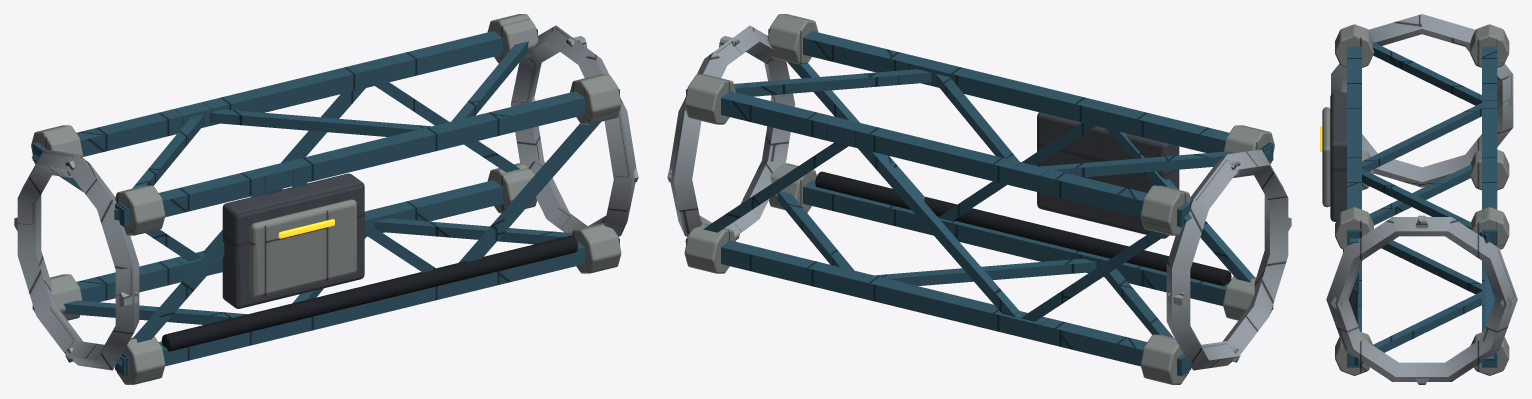
Rendered from truss_short_lod1.glb.
The picture shows the model from 3 angles, left to right: view 1: azimuth 30°, elevation 25°; view 2: azimuth 150°, elevation 25°; view 3: azimuth 270°, elevation 25°; orthographic projection. The views are drawn at different scales.
Parts seen in each view (by area): view 1: LOD1_Armor, LOD1_Hull, LOD1_BrushedMetal, LOD1_MechanicalDark, LOD1_Mechanical; view 2: LOD1_Armor, LOD1_BrushedMetal, LOD1_Hull, LOD1_Mechanical, LOD1_MechanicalDark; view 3: LOD1_BrushedMetal, LOD1_Armor, LOD1_Hull, LOD1_Mechanical, LOD1_MechanicalDark.
Part boxes in pixels (x1=…): LOD1_Armor: x1=31, y1=28, x2=619, y2=376; LOD1_Hull: x1=31, y1=14, x2=621, y2=384; LOD1_BrushedMetal: x1=14, y1=25, x2=638, y2=370; LOD1_MechanicalDark: x1=161, y1=235, x2=577, y2=351; LOD1_Mechanical: x1=222, y1=173, x2=364, y2=308; LOD1_Armor: x1=685, y1=28, x2=1273, y2=376; LOD1_BrushedMetal: x1=667, y1=25, x2=1291, y2=370; LOD1_Hull: x1=684, y1=14, x2=1274, y2=384; LOD1_Mechanical: x1=1037, y1=112, x2=1179, y2=238; LOD1_MechanicalDark: x1=815, y1=171, x2=1231, y2=285; LOD1_BrushedMetal: x1=1326, y1=14, x2=1517, y2=384; LOD1_Armor: x1=1347, y1=42, x2=1497, y2=367; LOD1_Hull: x1=1322, y1=24, x2=1509, y2=375; LOD1_Mechanical: x1=1330, y1=92, x2=1346, y2=221; LOD1_MechanicalDark: x1=1343, y1=249, x2=1357, y2=323.
Bounding box in the file's own units: 4.19 × 1.63 × 1.68.
Materials: 6 (5 with a texture image).
